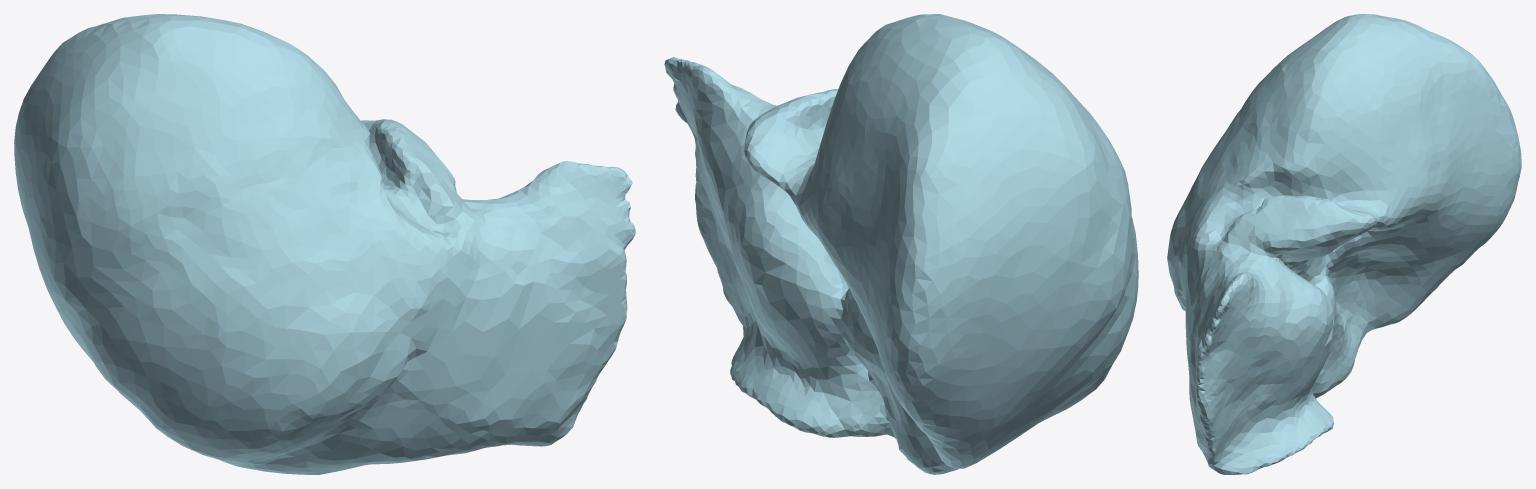
Rendered from liver.obj.
3 renders of one model, left to right at view 1: azimuth 30°, elevation 25°; view 2: azimuth 150°, elevation 25°; view 3: azimuth 270°, elevation 25°, orthographic. The views are drawn at different scales.
Visible parts, largest first — view 1: grp1; view 2: grp1; view 3: grp1.
Part boxes in pixels (box(x1,y1,x2,y2)): grp1: box(14, 14, 635, 474); grp1: box(664, 14, 1138, 474); grp1: box(1167, 14, 1521, 474).
Size of the model in its own units: 197 by 167 by 153.
